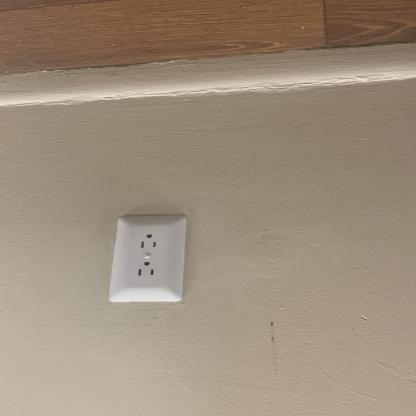OUTLET: (108, 212, 190, 304)
